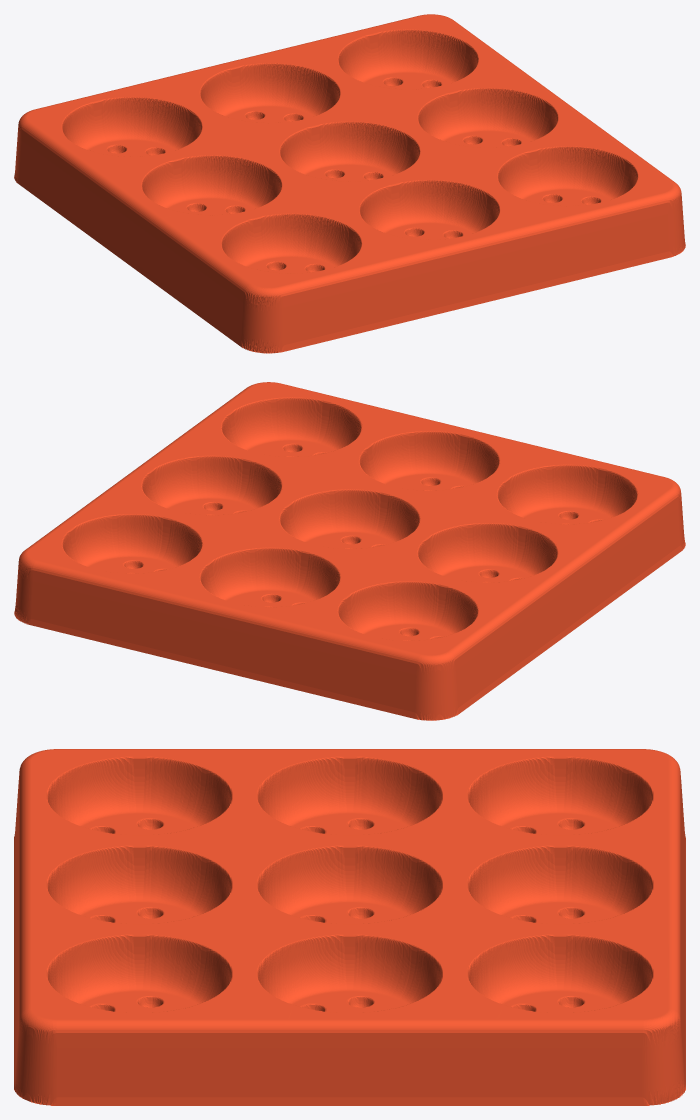
The model's file is mold.glb.
3 renders of one model, top to bottom at view 1: azimuth 30°, elevation 25°; view 2: azimuth 150°, elevation 25°; view 3: azimuth 270°, elevation 25°, orthographic. The views are drawn at different scales.
Parts seen in each view (by area): view 1: geometry_0; view 2: geometry_0; view 3: geometry_0.
Part boxes in pixels (x1,y1,x2,y2): geometry_0: (14, 14, 685, 353); geometry_0: (14, 382, 685, 720); geometry_0: (14, 749, 685, 1105).
Bounding box in the file's own units: 0.1402 × 0.0182 × 0.1402.
